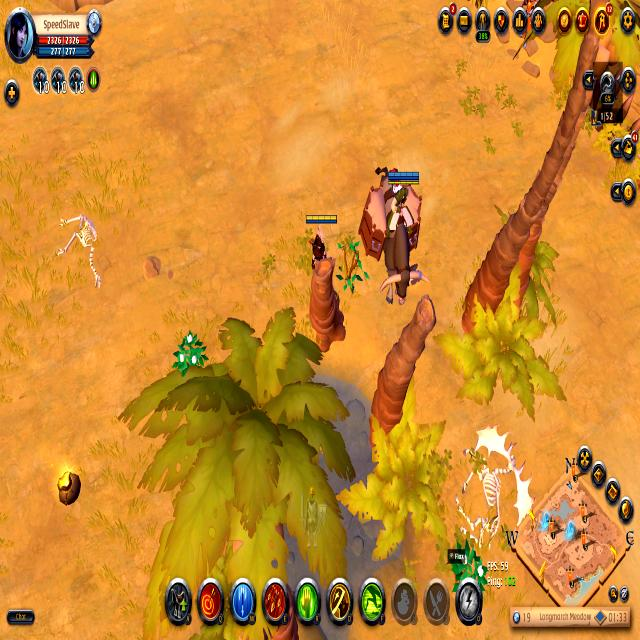hide: (447, 536, 487, 592), (170, 329, 207, 379)
red: (365, 150, 419, 296), (302, 210, 338, 277)
